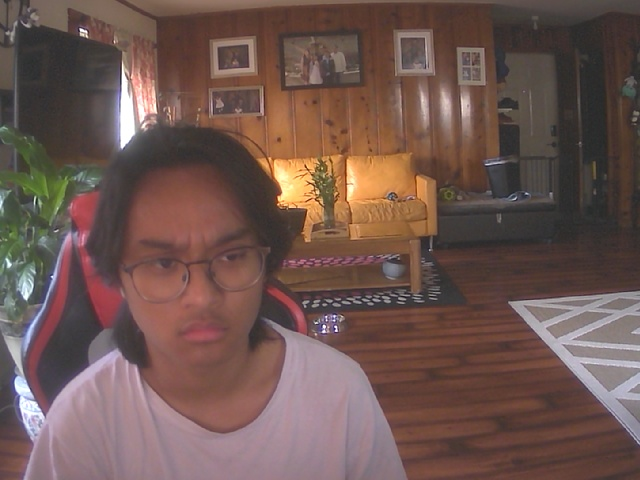anger: (113, 138, 279, 378)
